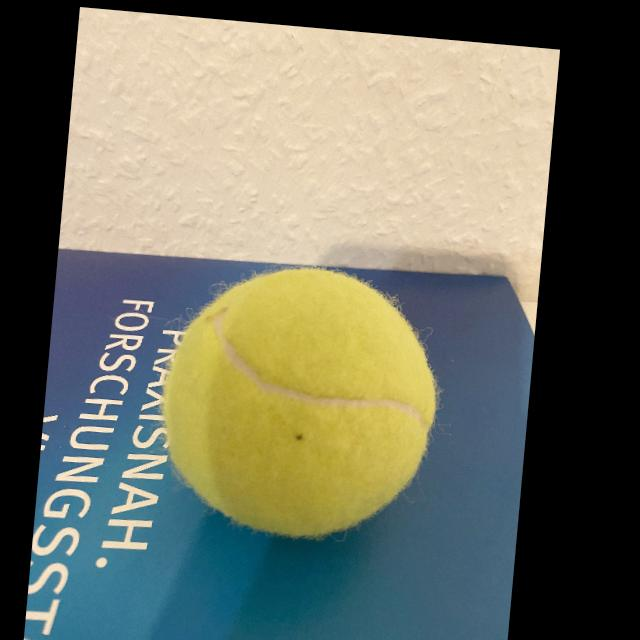Tennisball: (164, 268, 436, 537)
